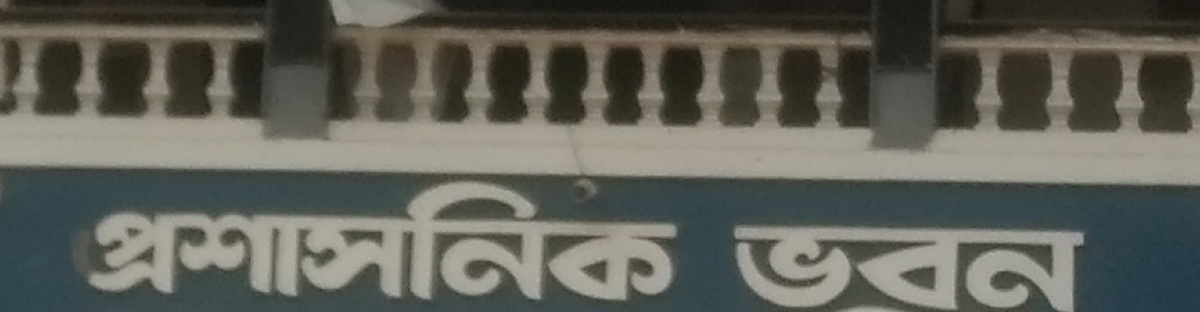text: (113, 174, 128, 305), (129, 174, 144, 305), (145, 174, 160, 305), (161, 174, 176, 305), (177, 174, 192, 305), (193, 174, 208, 305), (209, 174, 224, 305), (225, 174, 240, 305), (241, 174, 256, 305), (257, 174, 272, 305), (273, 174, 288, 305), (289, 174, 304, 305), (305, 174, 320, 305), (321, 174, 336, 305), (337, 174, 352, 305), (353, 174, 368, 305), (369, 174, 384, 305), (385, 174, 400, 305), (401, 174, 416, 305), (417, 174, 432, 305), (433, 174, 448, 305), (449, 174, 464, 305), (465, 174, 480, 305), (481, 174, 496, 305), (497, 174, 512, 305), (513, 174, 528, 305), (529, 174, 544, 305), (545, 174, 560, 305), (561, 174, 576, 305), (577, 174, 592, 305), (593, 174, 608, 305), (609, 174, 624, 305), (625, 174, 640, 305), (641, 174, 656, 305), (657, 174, 672, 305), (99, 174, 112, 305), (673, 174, 686, 305), (1073, 225, 1089, 312), (737, 225, 752, 312), (753, 225, 768, 312), (769, 225, 784, 312), (785, 225, 800, 312), (801, 225, 816, 312), (817, 225, 832, 312), (833, 225, 848, 312), (849, 225, 864, 312), (865, 225, 880, 312), (881, 225, 896, 312), (897, 225, 912, 312), (913, 225, 928, 312), (929, 225, 944, 312), (945, 225, 960, 312), (961, 225, 976, 312), (977, 225, 992, 312), (993, 225, 1008, 312), (1009, 225, 1024, 312), (1025, 225, 1040, 312), (1041, 225, 1056, 312), (1057, 225, 1072, 312), (731, 225, 736, 312), (849, 301, 864, 312), (865, 301, 880, 312), (881, 301, 896, 312), (897, 301, 907, 312), (839, 301, 848, 312)
